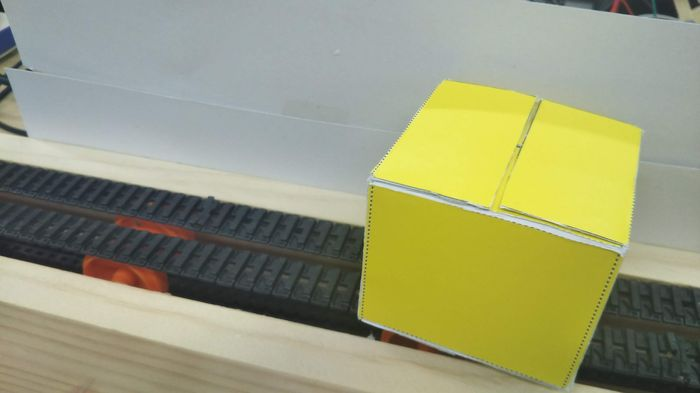box4: (352, 78, 646, 392)
